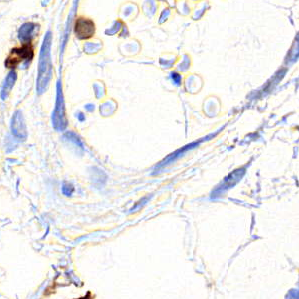Lymphocyte: (71, 16, 96, 41)
